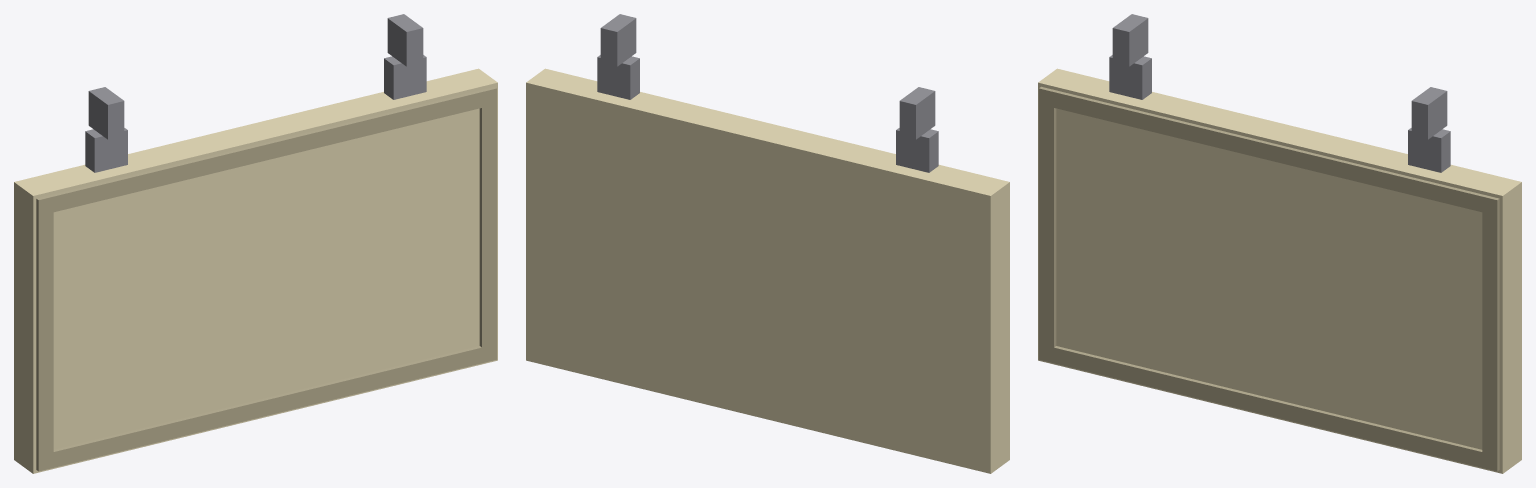
File: sign_birch_hang.gltf
3 views of the same model, side by side, from view 1: azimuth 30°, elevation 25°; view 2: azimuth 150°, elevation 25°; view 3: azimuth 330°, elevation 25° (orthographic).
Visible parts, largest first — view 1: sign_birch_hang; view 2: sign_birch_hang; view 3: sign_birch_hang.
Boxes of the visible parts, left/top/right/bottom form: sign_birch_hang: left=14, top=14, right=497, bottom=473; sign_birch_hang: left=526, top=14, right=1009, bottom=473; sign_birch_hang: left=1038, top=14, right=1521, bottom=473.
Bounding box in the file's own units: 0.875 × 0.631 × 0.07.
